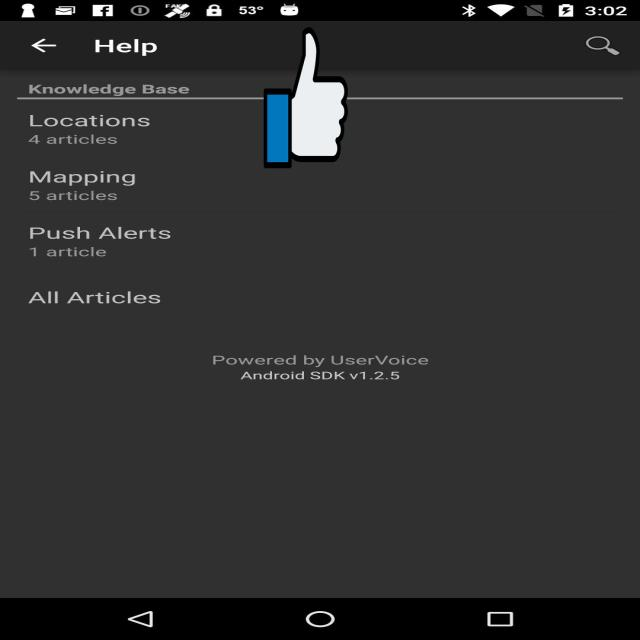privacy zuckering: (264, 24, 348, 171)
